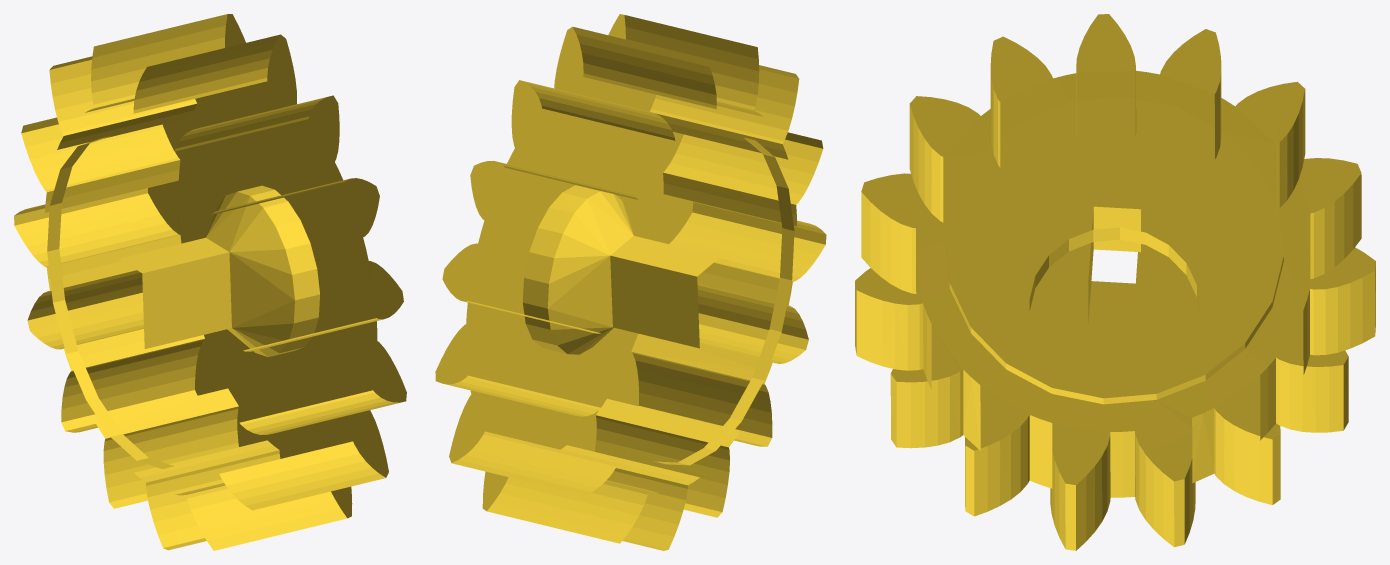
File: G-__566220.010.dae.balanced.glb
3 views of the same model, side by side, from view 1: azimuth 30°, elevation 25°; view 2: azimuth 150°, elevation 25°; view 3: azimuth 270°, elevation 25° (orthographic).
Size of the model in its own units: 0.0675 by 0.2062 by 0.2064.
